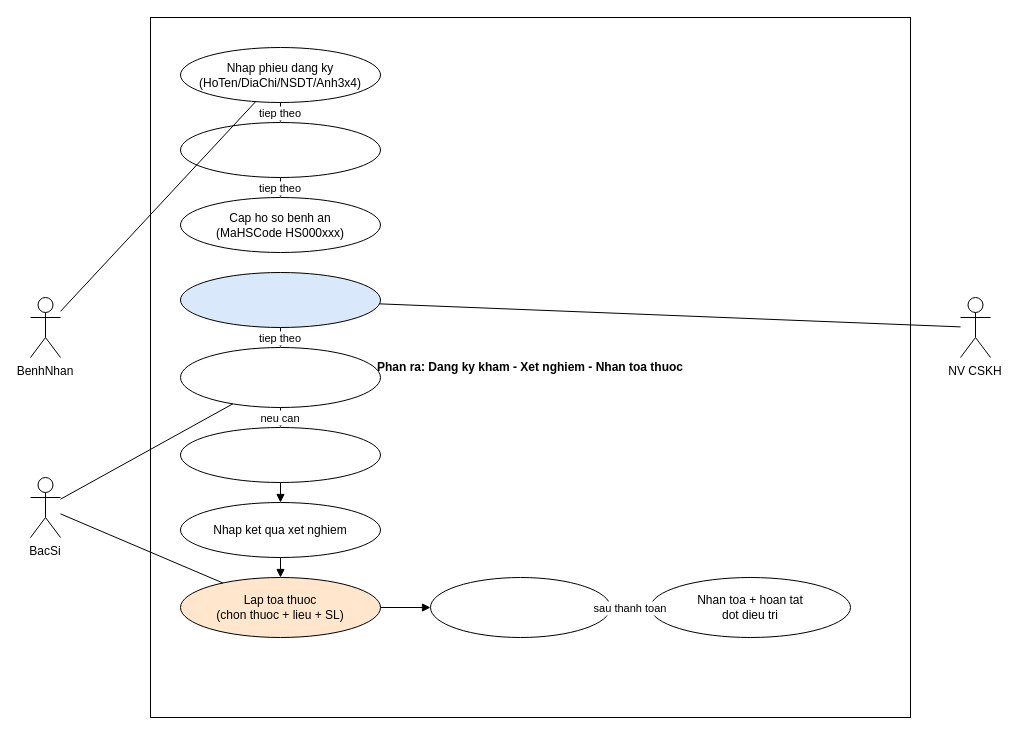
This 1020x735 diagram has some shape labels left out. The shapes that lost their labels are listed below. From the top down, each one's box as (x1, y1, x2, y2) in pixels, then its label:
(180, 122, 380, 178): Dong le phi nam
(180, 272, 380, 328): Tra cuu ho so (MaHS/HoTen/SDT)
(180, 346, 380, 408): Tao phieu kham + ghi trieu chung/sinh hieu
(180, 426, 380, 482): Chi dinh xet nghiem
(430, 576, 610, 638): Thanh toan vien phi
